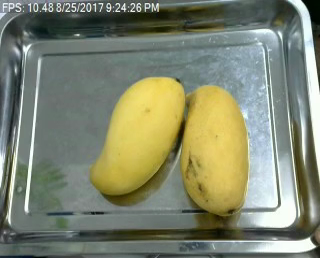Mango: (89, 74, 186, 198), (178, 82, 249, 215)
